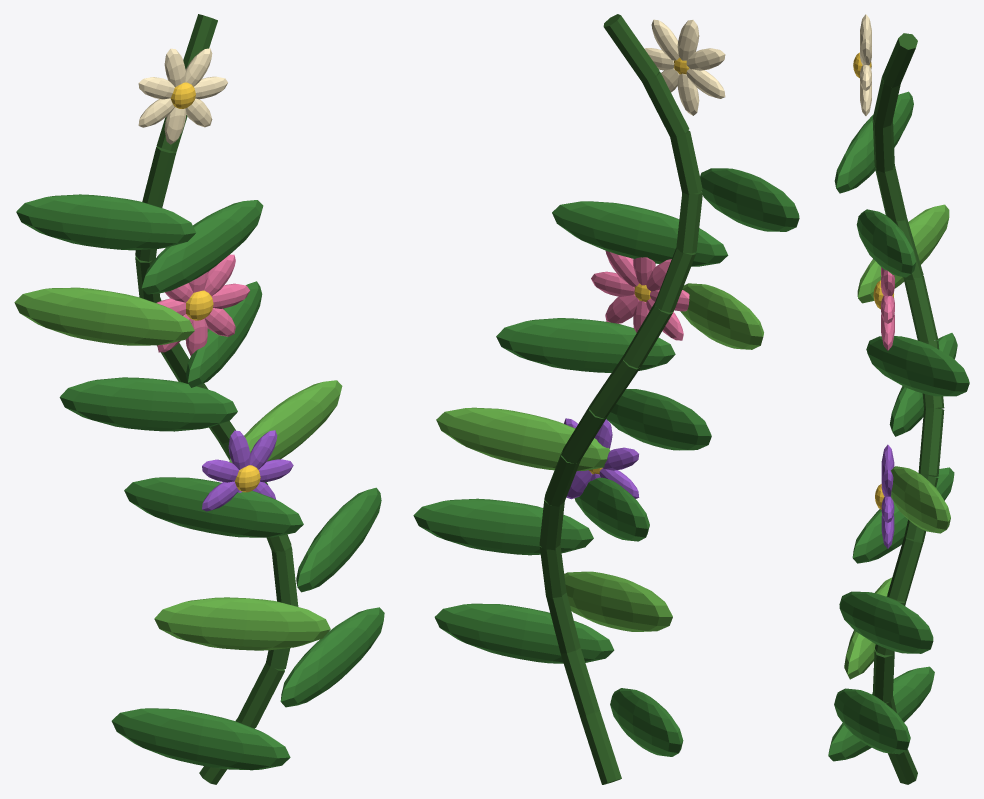
Rendered from flowering_vine.obj.
3 views of the same model, side by side, from view 1: azimuth 30°, elevation 25°; view 2: azimuth 150°, elevation 25°; view 3: azimuth 270°, elevation 25° (orthographic). The views are drawn at different scales.
Visible parts, largest first — view 1: flowering_vine; view 2: flowering_vine; view 3: flowering_vine.
Part boxes in pixels (x1,y1,x2,y2): flowering_vine: [14, 14, 384, 784]; flowering_vine: [413, 14, 799, 784]; flowering_vine: [828, 14, 969, 784].
Size of the model in its own units: 0.4024 by 0.7905 by 0.1362.
